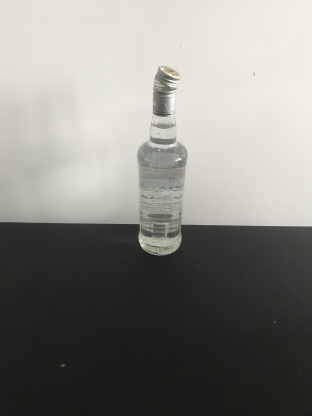nakretka: (151, 63, 181, 117)
